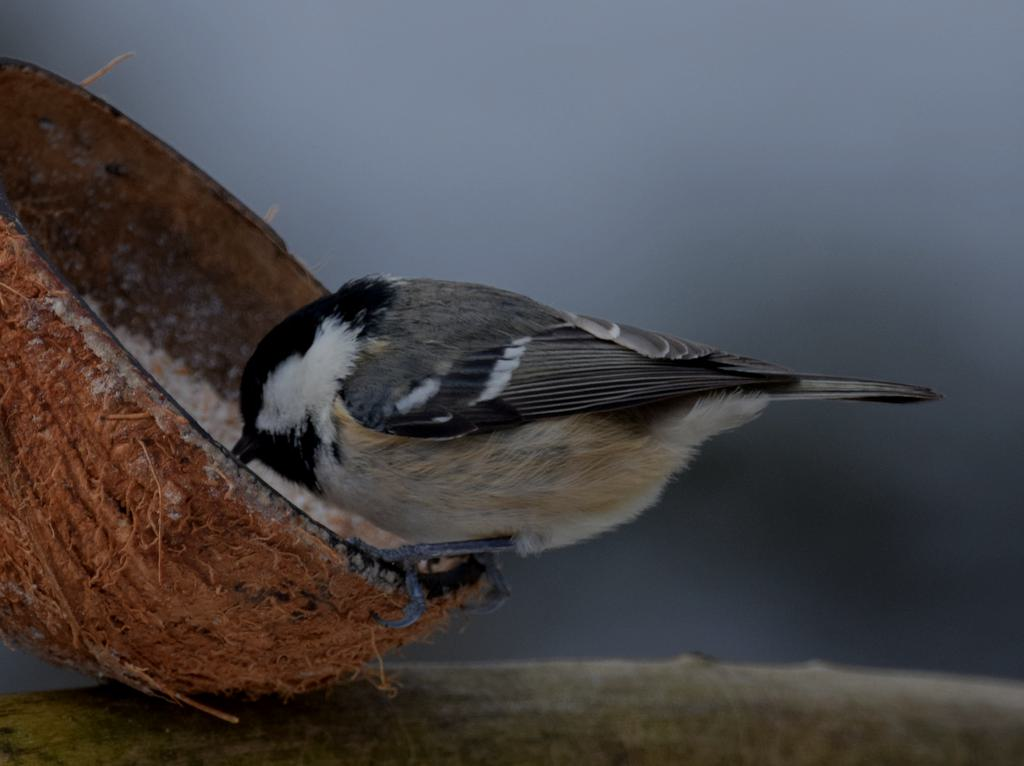PeriparusAter: (232, 276, 950, 632)
